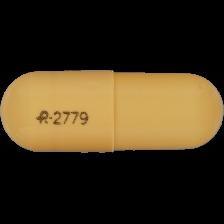54868-1078: (0, 0, 224, 224)
